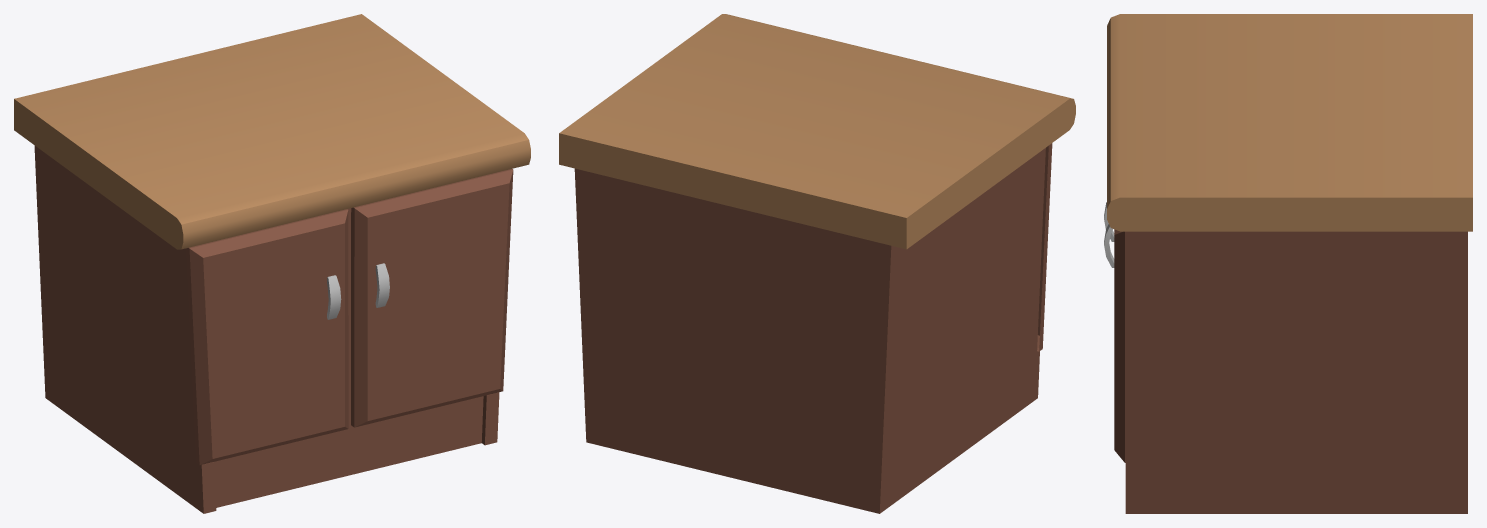
Rendered from bedside table 1.fbx.
3 renders of one model, left to right at view 1: azimuth 30°, elevation 25°; view 2: azimuth 150°, elevation 25°; view 3: azimuth 270°, elevation 25°, orthographic. The views are drawn at different scales.
Parts seen in each view (by area): view 1: bedside table 1; view 2: bedside table 1; view 3: bedside table 1.
Part boxes in pixels (bbox=[...]): bedside table 1: bbox=[14, 14, 530, 513]; bedside table 1: bbox=[559, 14, 1075, 513]; bedside table 1: bbox=[1104, 14, 1472, 513].
Bounding box in the file's own units: 180 × 150 × 152.
